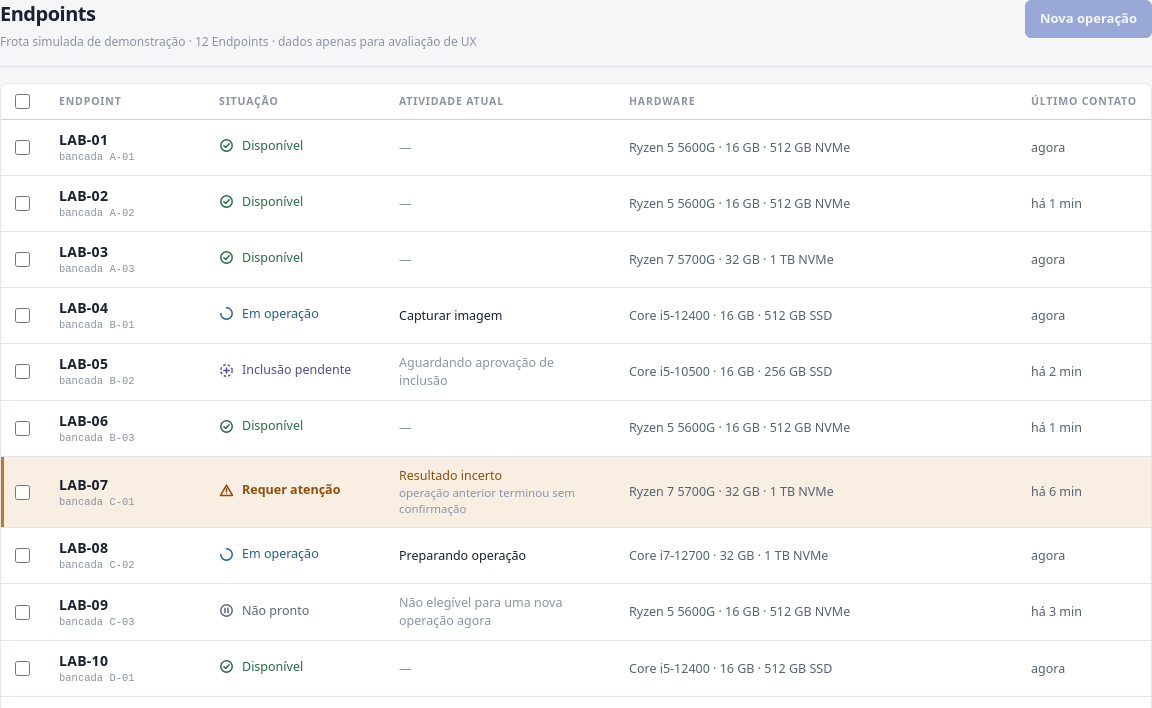
Test: /endpoints › selects LAB-03, LAB-07 and LAB-09 together and summarises the mix
Click the checkbox named "Selecionar LAB-03": (22,260) [15,252,30,267]
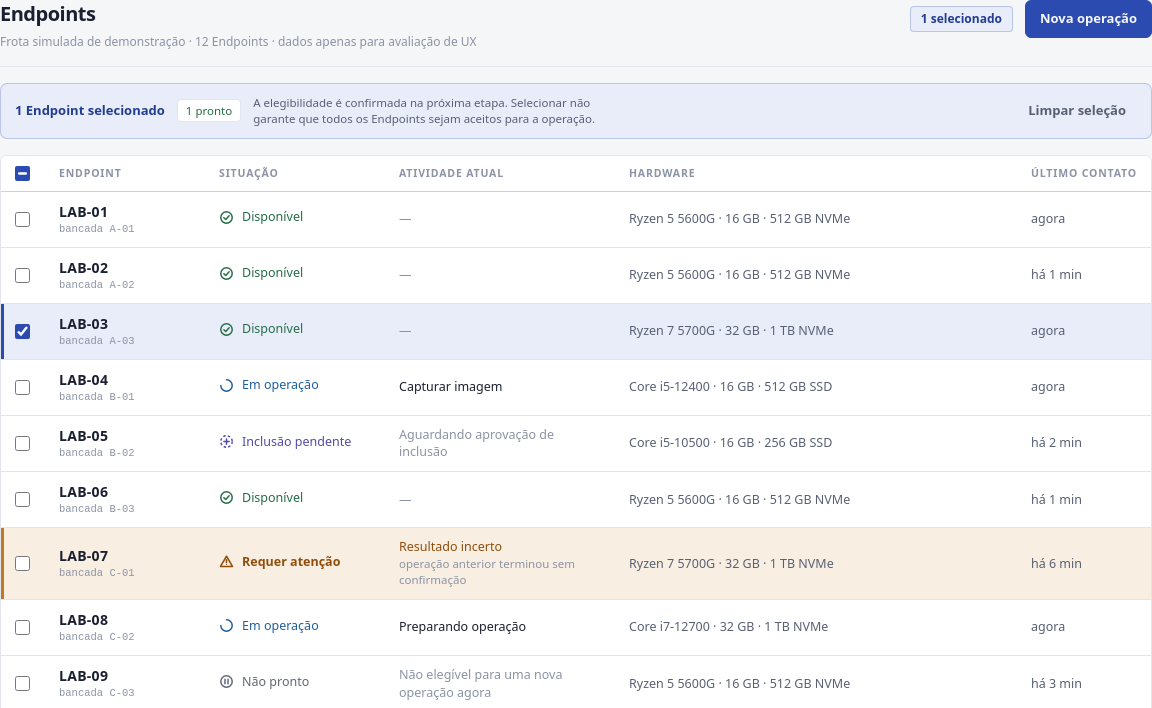
Click the checkbox named "Selecionar LAB-07": (22,564) [15,556,30,571]
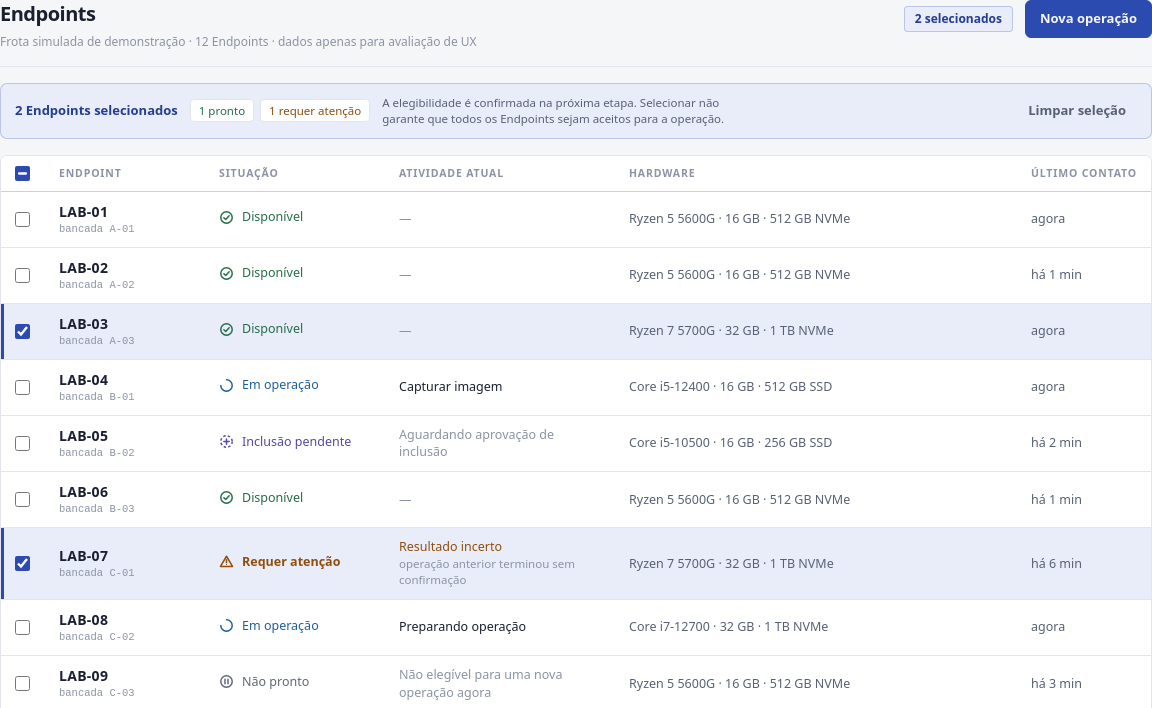
Click the checkbox named "Selecionar LAB-09": (22,684) [15,676,30,691]
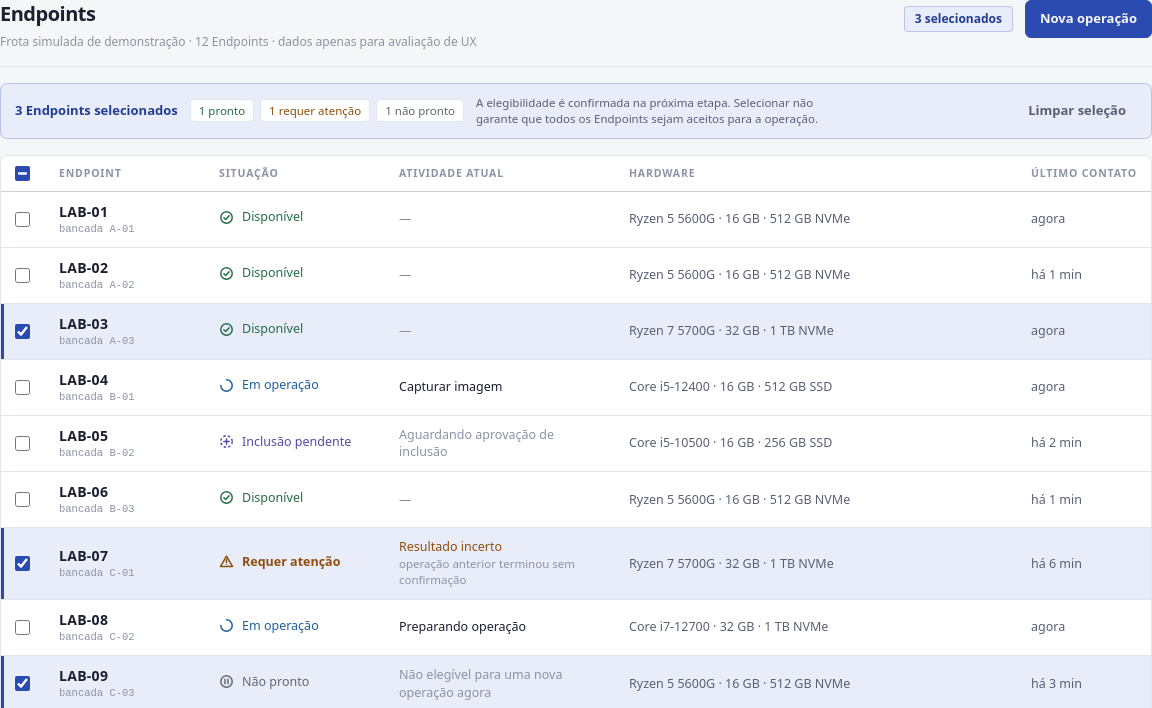
Now the element named "Resumo da seleção" shows "1 pronto", box [199,103,245,118]
Now the element named "Resumo da seleção" shows "1 requer atenção", box [269,103,361,118]
Now the element named "Resumo da seleção" shows "3 Endpoints selecionados", box [15,101,178,119]
